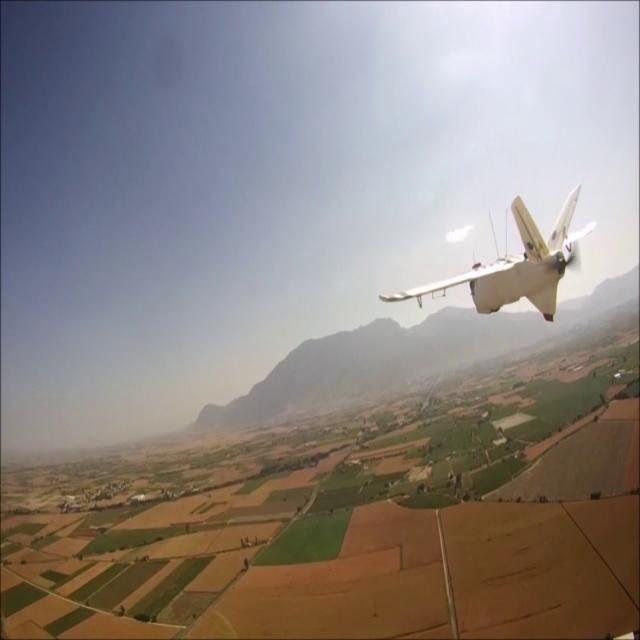iha: (378, 182, 600, 327)
